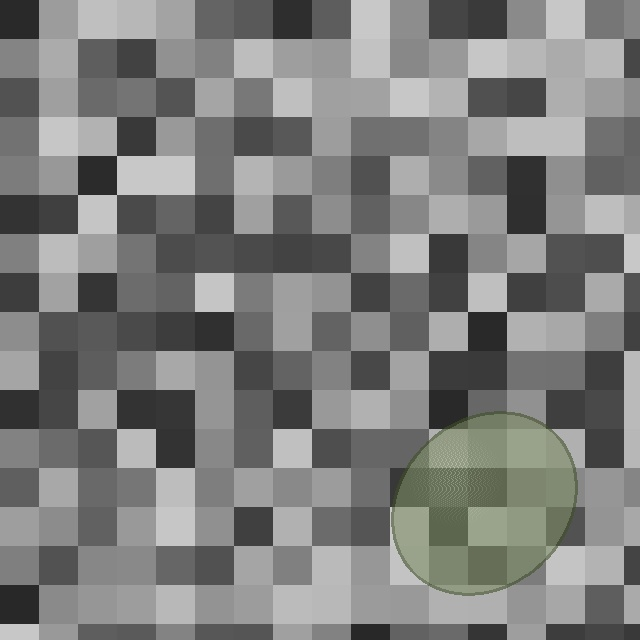lens: (393, 412, 575, 594)
